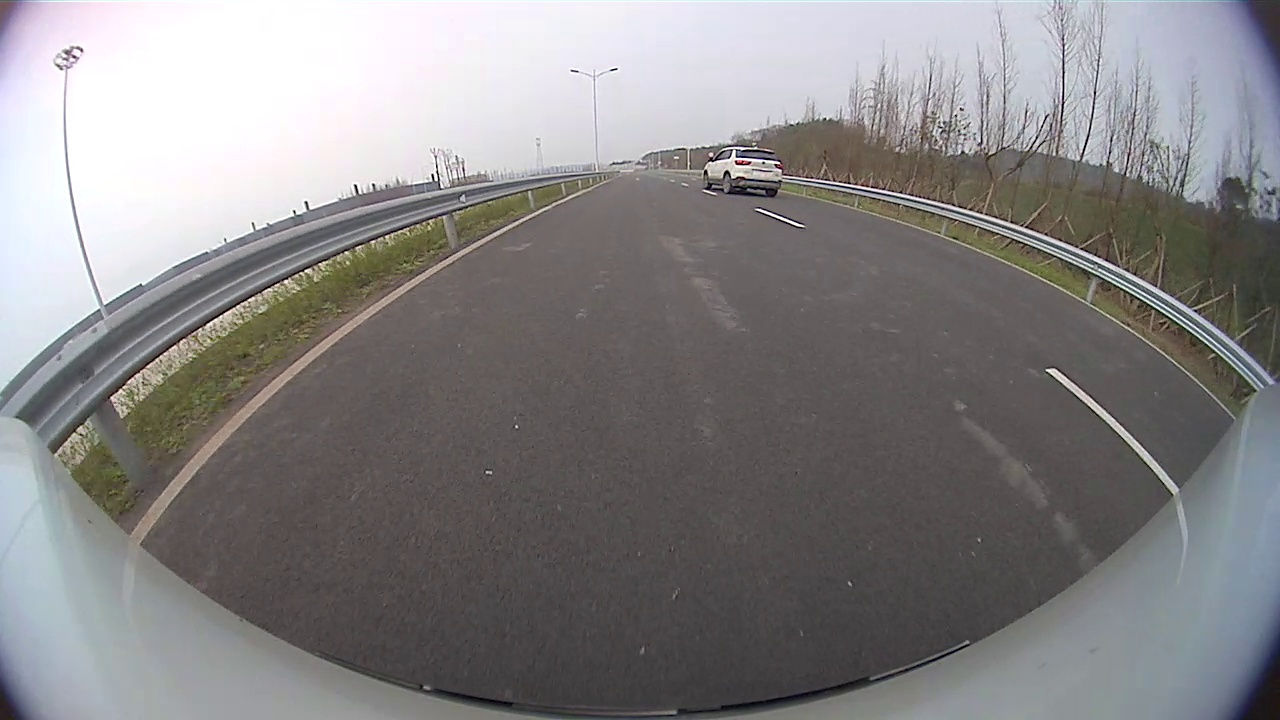car: (702, 146, 782, 196)
front: (702, 173, 709, 188)
rear: (721, 172, 733, 192)
